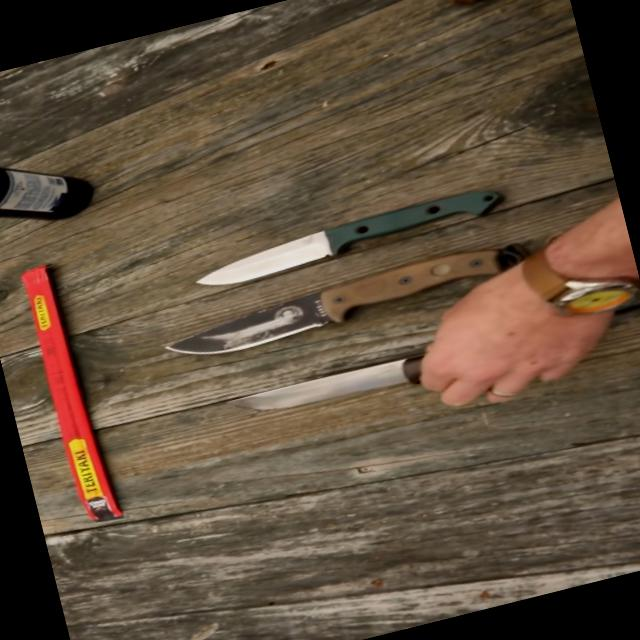knife: (202, 314, 516, 478), (142, 267, 378, 379), (172, 212, 366, 302)
